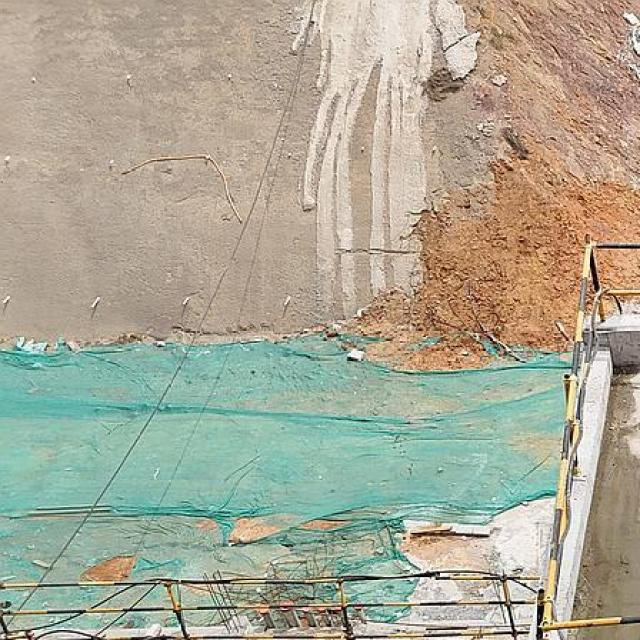edge_guardrail: (537, 231, 640, 640), (0, 571, 544, 639)
